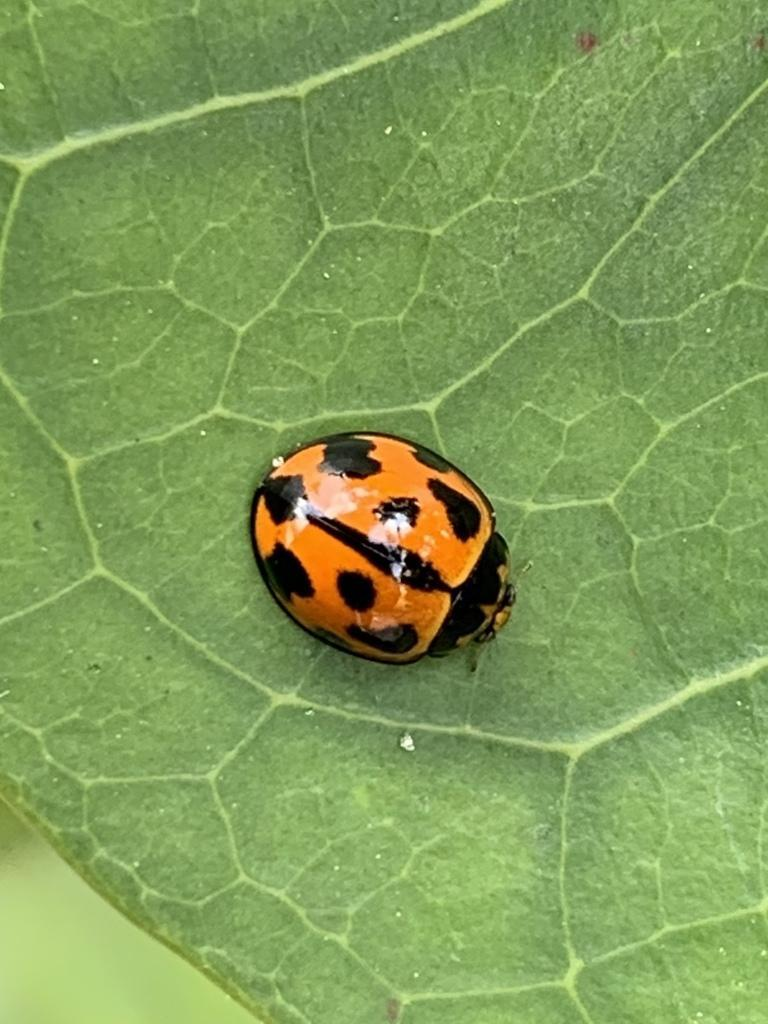ladybug: (246, 426, 536, 679)
